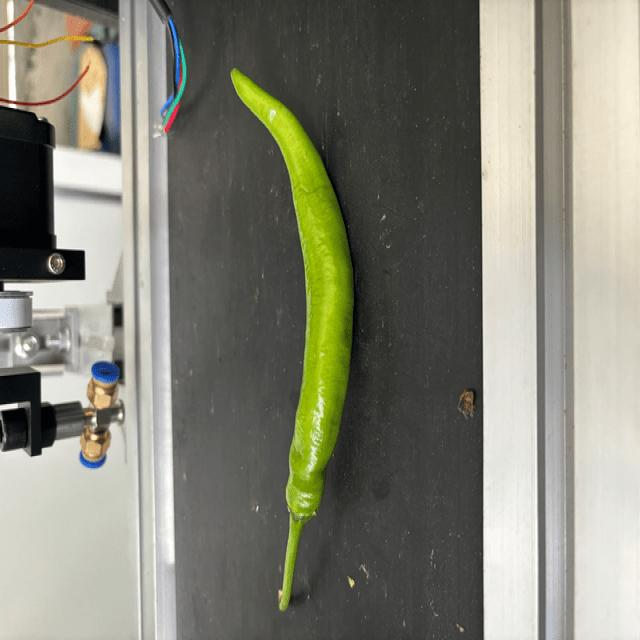chili: (228, 63, 355, 526)
